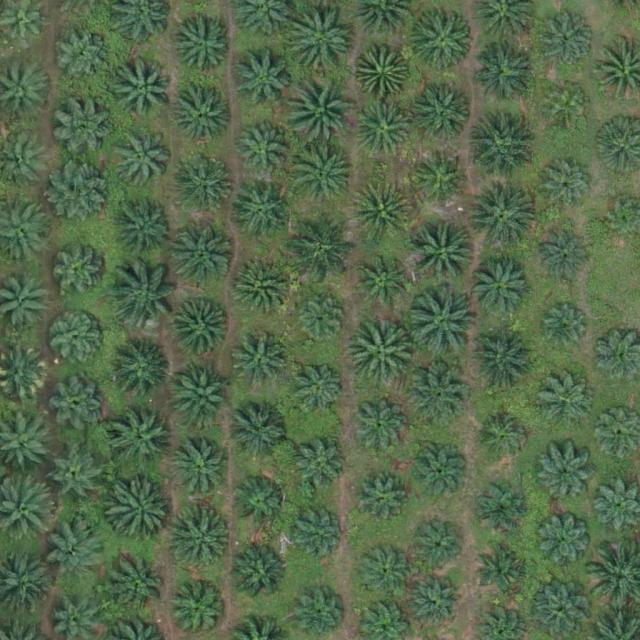Healthy: (407, 290, 478, 361), (289, 210, 360, 281), (289, 7, 360, 78), (464, 330, 535, 400), (111, 263, 182, 333), (289, 141, 359, 212), (286, 72, 356, 143), (411, 219, 481, 290), (345, 318, 415, 388), (465, 112, 535, 182), (466, 183, 536, 253), (405, 364, 468, 427), (227, 545, 290, 608), (52, 96, 115, 159), (115, 58, 178, 121), (172, 224, 235, 287), (350, 181, 413, 244), (412, 84, 475, 147), (474, 41, 537, 104), (470, 259, 532, 322), (229, 257, 291, 320), (230, 400, 292, 463), (170, 299, 233, 361), (171, 364, 233, 427), (171, 510, 233, 573), (111, 340, 173, 403), (109, 410, 171, 473), (109, 483, 171, 546), (51, 161, 113, 224), (111, 129, 173, 192), (114, 198, 176, 261), (172, 84, 234, 147), (230, 49, 292, 112), (232, 182, 294, 245), (412, 6, 474, 69), (110, 555, 172, 617), (48, 520, 110, 582), (177, 154, 239, 216), (174, 14, 236, 76), (538, 451, 593, 506), (538, 514, 593, 569), (296, 293, 351, 348), (289, 359, 344, 414), (292, 439, 347, 494), (288, 503, 343, 558), (351, 471, 406, 526), (352, 398, 407, 453), (413, 443, 468, 498), (476, 409, 531, 464), (539, 374, 594, 429), (235, 335, 290, 390), (232, 474, 287, 529), (175, 439, 230, 494), (52, 248, 107, 303), (50, 316, 105, 371), (52, 378, 107, 433), (50, 451, 105, 506), (56, 29, 111, 84), (358, 100, 413, 155), (355, 257, 410, 312), (416, 147, 471, 202), (537, 230, 592, 285), (541, 156, 596, 211), (358, 545, 412, 600), (411, 521, 465, 576), (412, 573, 466, 628), (478, 540, 532, 595), (473, 479, 527, 534), (236, 121, 290, 176), (356, 43, 410, 98), (540, 11, 594, 66)
Small: (542, 305, 589, 353), (544, 82, 591, 129)
